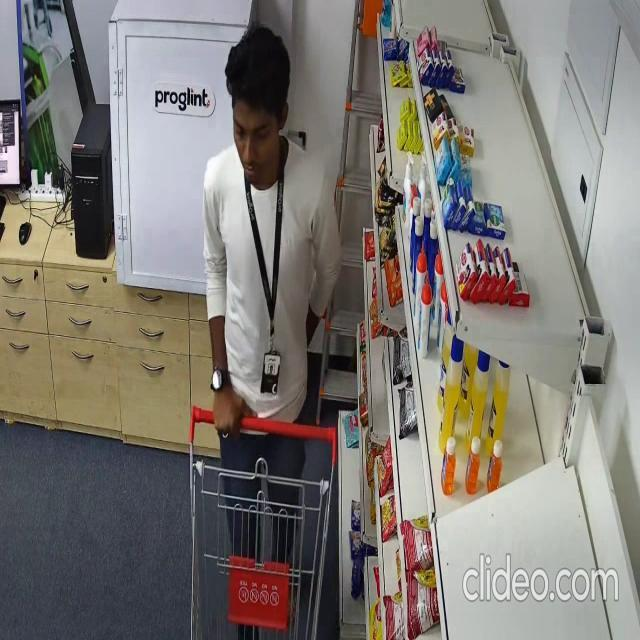Shoplifting: (201, 21, 346, 640)
